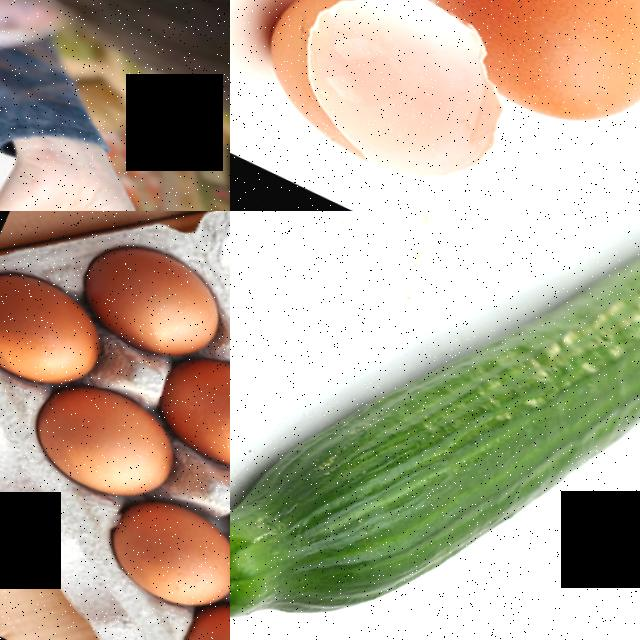cucumber: (261, 211, 640, 640)
egg_: (460, 0, 640, 152), (20, 364, 188, 516), (66, 220, 230, 372), (99, 481, 230, 620), (0, 256, 119, 403), (149, 338, 230, 482)
